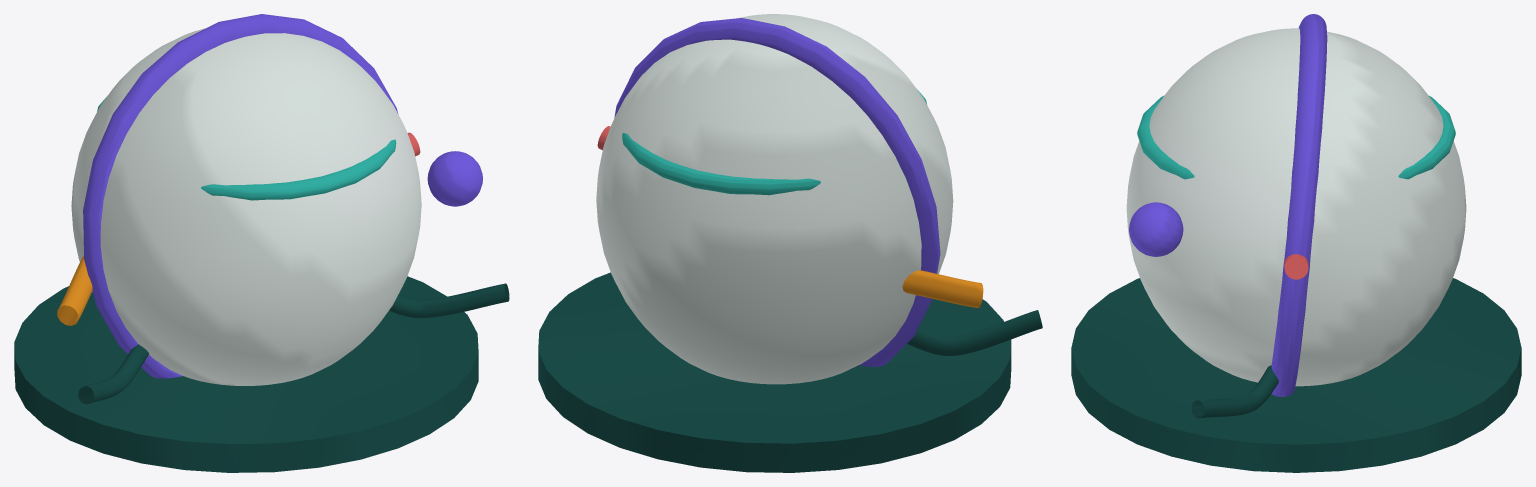
Rendered from 0434_微生物图鉴_放线菌.glb.
3 renders of one model, left to right at view 1: azimuth 30°, elevation 25°; view 2: azimuth 150°, elevation 25°; view 3: azimuth 270°, elevation 25°, orthographic. The views are drawn at different scales.
Visible parts, largest first — view 1: card_0434; view 2: card_0434; view 3: card_0434.
Part boxes in pixels (x1,y1,x2,y2): card_0434: (14,14,509,472); card_0434: (538,14,1042,472); card_0434: (1071,14,1521,472).
Size of the model in its own units: 1.24 by 1 by 1.14.
